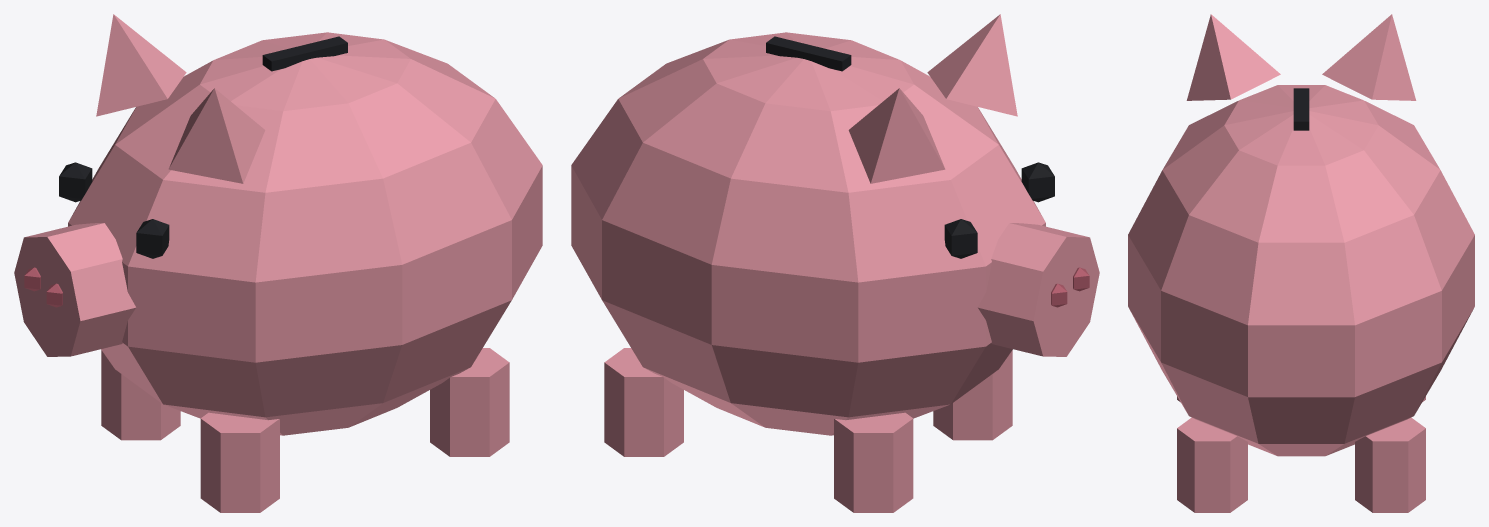
The model's file is piggyBank.fbx.
3 renders of one model, left to right at view 1: azimuth 30°, elevation 25°; view 2: azimuth 150°, elevation 25°; view 3: azimuth 270°, elevation 25°, orthographic. The views are drawn at different scales.
Parts seen in each view (by area): view 1: piggyBank; view 2: piggyBank; view 3: piggyBank.
Part boxes in pixels (left/top/right/bottom): piggyBank: left=14, top=14, right=542, bottom=512; piggyBank: left=571, top=14, right=1099, bottom=512; piggyBank: left=1128, top=14, right=1474, bottom=512.
Bounding box in the file's own units: 0.9987 × 0.8349 × 0.7019.
